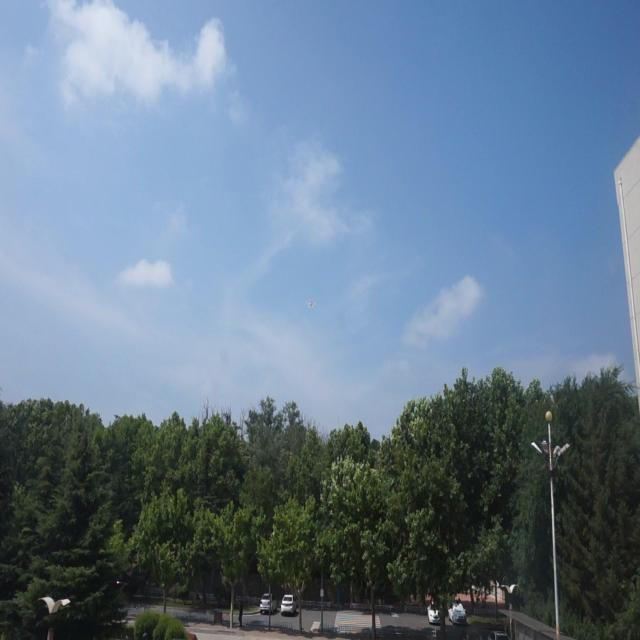drone: (304, 297, 318, 312)
